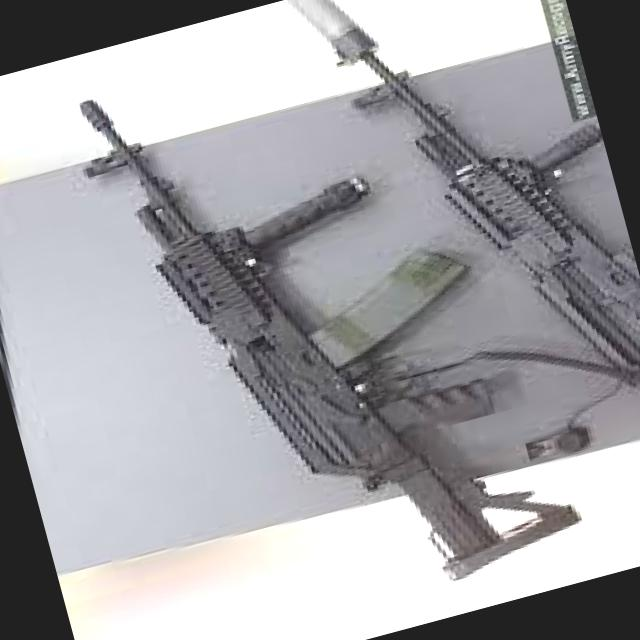long weapon: (64, 9, 541, 639), (279, 0, 639, 473)
